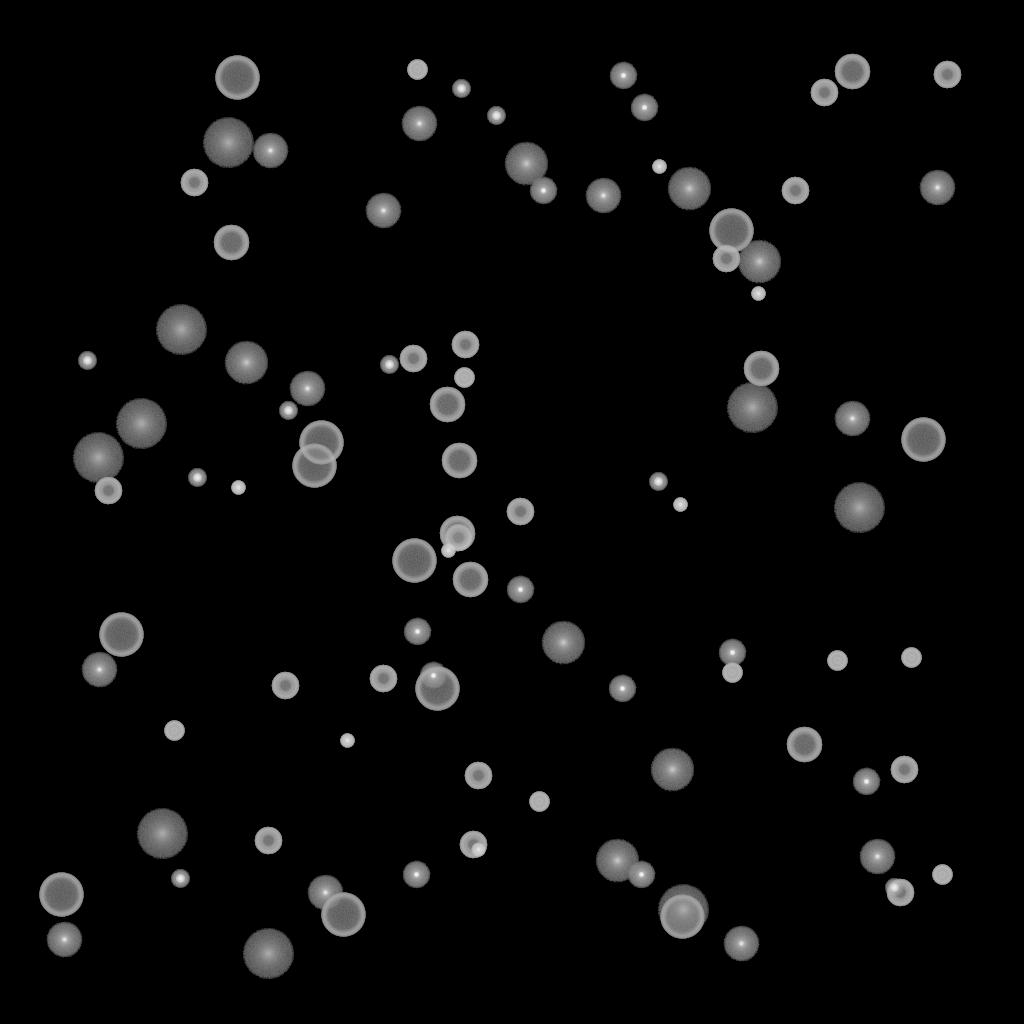depth:-10: (529, 177, 557, 205), (718, 639, 746, 667), (608, 675, 636, 703), (506, 576, 534, 604), (630, 94, 658, 122), (402, 861, 430, 889), (403, 618, 431, 646), (852, 768, 880, 796), (609, 62, 637, 90), (627, 861, 655, 889), (419, 662, 447, 690)
depth:-20: (78, 352, 96, 370), (380, 356, 398, 374), (171, 870, 189, 888), (649, 473, 667, 491), (487, 107, 505, 125), (279, 402, 297, 420), (188, 469, 206, 487), (452, 80, 470, 98), (885, 879, 903, 897)
depth:-30: (340, 734, 354, 748), (652, 160, 666, 174), (751, 287, 765, 301), (231, 481, 245, 495), (471, 843, 485, 857), (441, 544, 455, 558), (673, 498, 687, 512)
depth:-40: (932, 865, 952, 885), (827, 651, 847, 671), (454, 368, 474, 388), (901, 648, 921, 668), (529, 792, 549, 812), (407, 60, 427, 80), (722, 663, 742, 683), (164, 721, 184, 741)
depth:-50: (369, 665, 397, 693), (180, 169, 208, 197), (94, 477, 122, 505), (810, 79, 838, 107), (933, 61, 961, 89), (712, 245, 740, 273), (271, 672, 299, 700), (444, 524, 472, 552), (506, 498, 534, 526), (399, 345, 427, 373), (781, 177, 809, 205), (890, 756, 918, 784), (886, 879, 914, 907), (459, 831, 487, 859), (451, 331, 479, 359), (464, 762, 492, 790), (254, 827, 282, 855)
depth:-60: (834, 54, 870, 90), (213, 225, 249, 261), (786, 727, 822, 763), (441, 443, 477, 479), (452, 562, 488, 598), (429, 387, 465, 423), (743, 351, 779, 387), (439, 516, 475, 552)
depth:-70: (39, 873, 83, 917), (299, 421, 343, 465), (709, 209, 753, 253), (901, 418, 945, 462), (99, 613, 143, 657), (215, 56, 259, 100), (292, 444, 336, 488), (392, 539, 436, 583), (415, 667, 459, 711), (660, 895, 704, 939), (321, 893, 365, 937)
depth:0: (307, 875, 343, 911), (859, 839, 895, 875), (289, 371, 325, 407), (81, 652, 117, 688), (834, 401, 870, 437), (252, 133, 288, 169), (919, 170, 955, 206), (585, 178, 621, 214), (46, 922, 82, 958), (401, 106, 437, 142), (723, 926, 759, 962), (365, 193, 401, 229)
depth:10: (504, 142, 548, 186), (595, 839, 639, 883), (541, 621, 585, 665), (650, 748, 694, 792), (737, 240, 781, 284), (667, 167, 711, 211), (224, 341, 268, 385)
depth:20: (833, 483, 885, 533), (136, 809, 188, 859), (726, 383, 778, 433), (155, 305, 207, 355), (115, 399, 167, 449), (202, 118, 254, 168), (72, 433, 124, 483), (242, 929, 294, 979), (657, 885, 709, 935)
